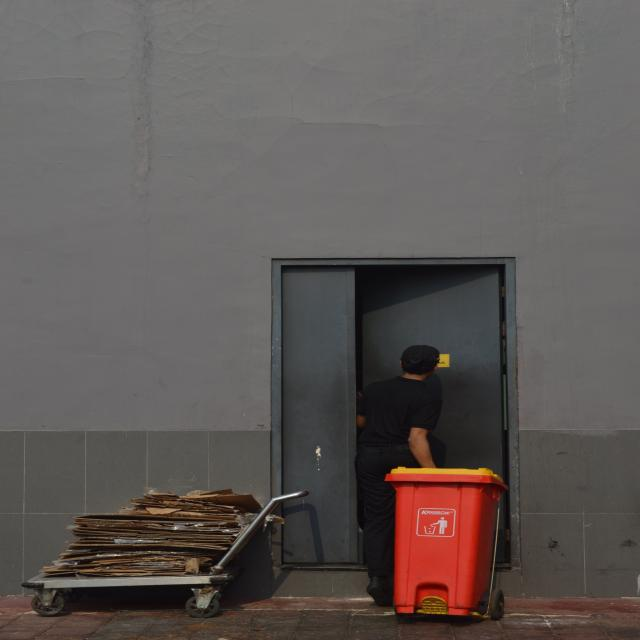cardboard: (87, 505, 207, 568)
